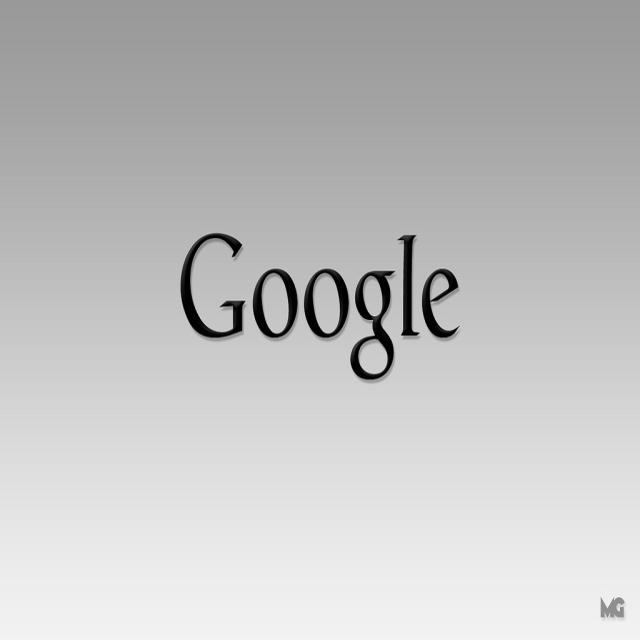google: (177, 220, 471, 388)
